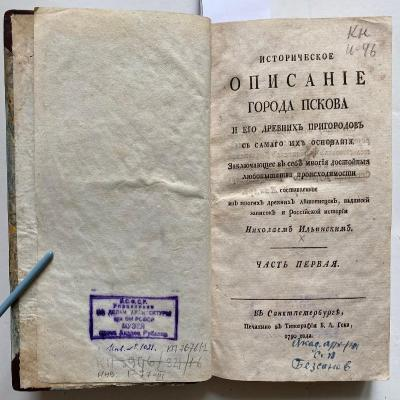rare_books: (0, 7, 394, 400)
